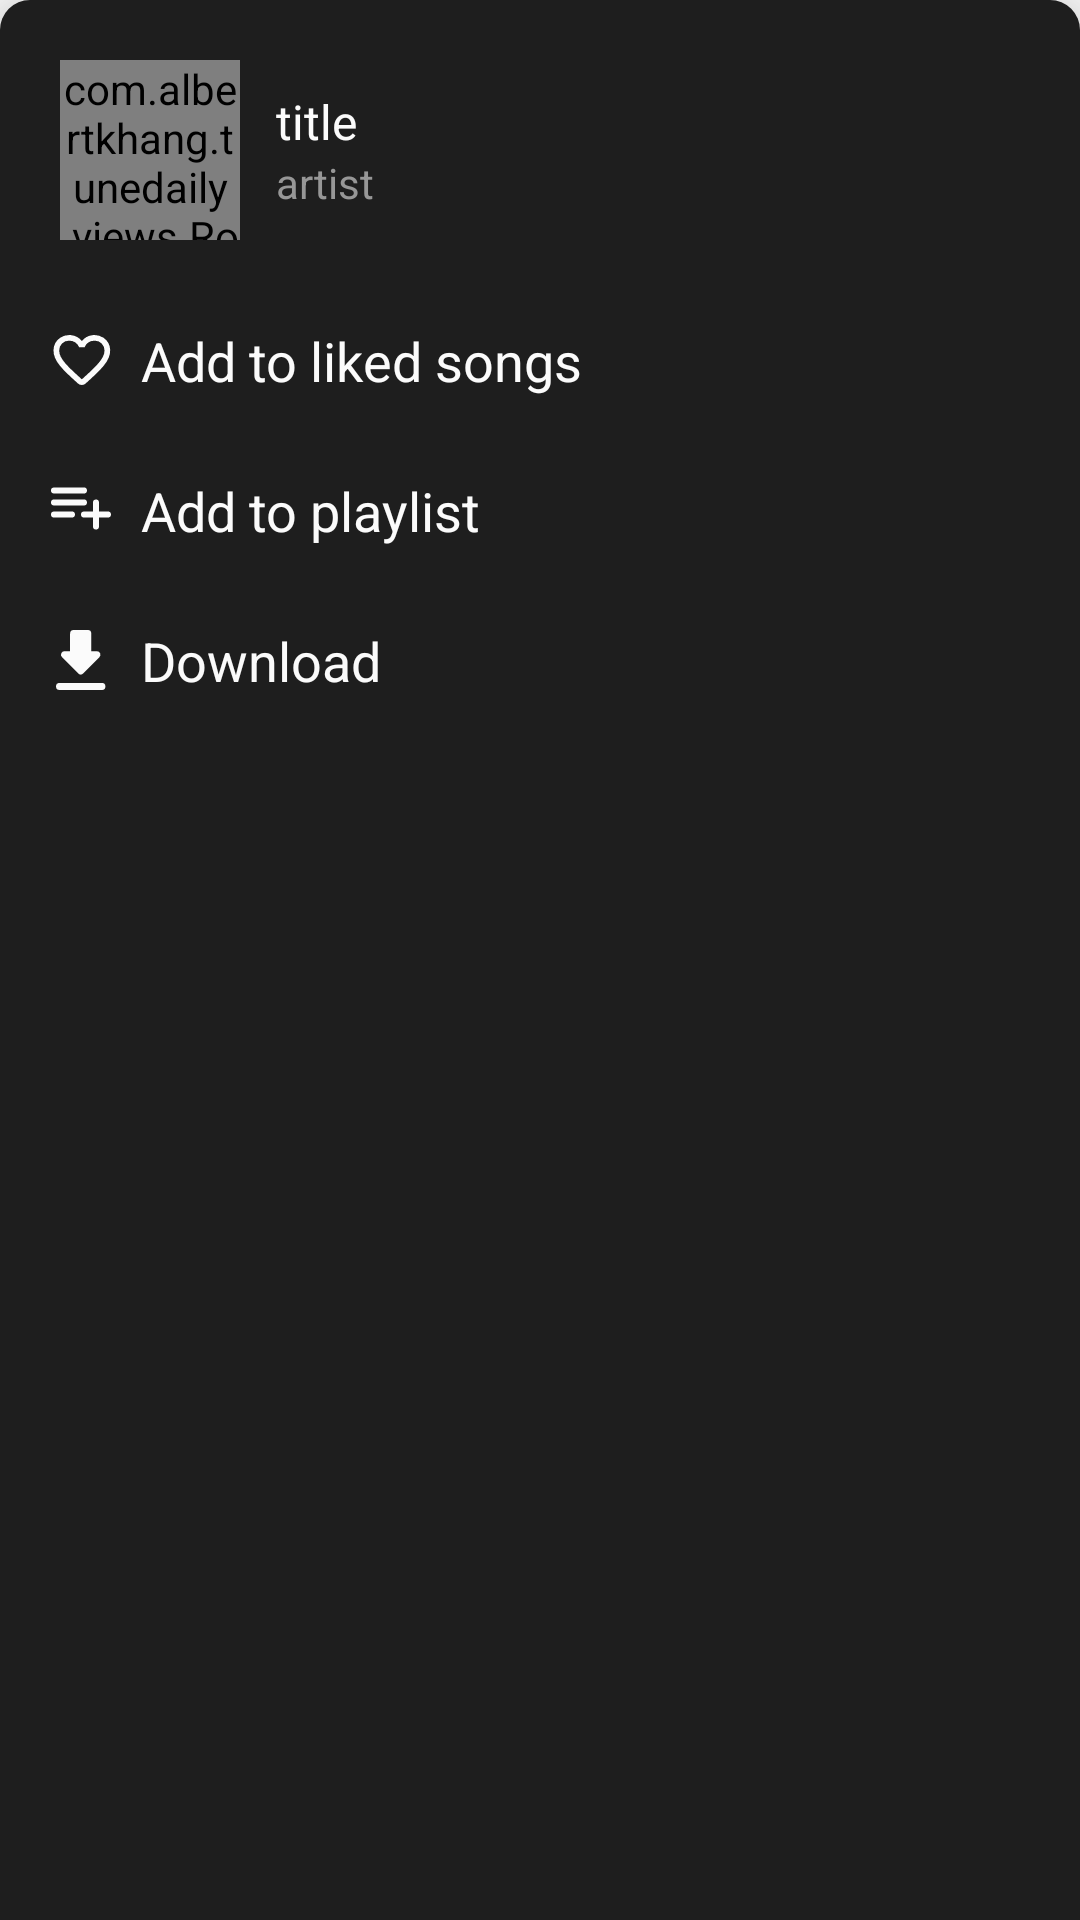

Locate icon controls on the screen. Image size 1080 × 1920, boxes as (x1, y1, x2, y2).
not favourite: (53, 335, 111, 385)
